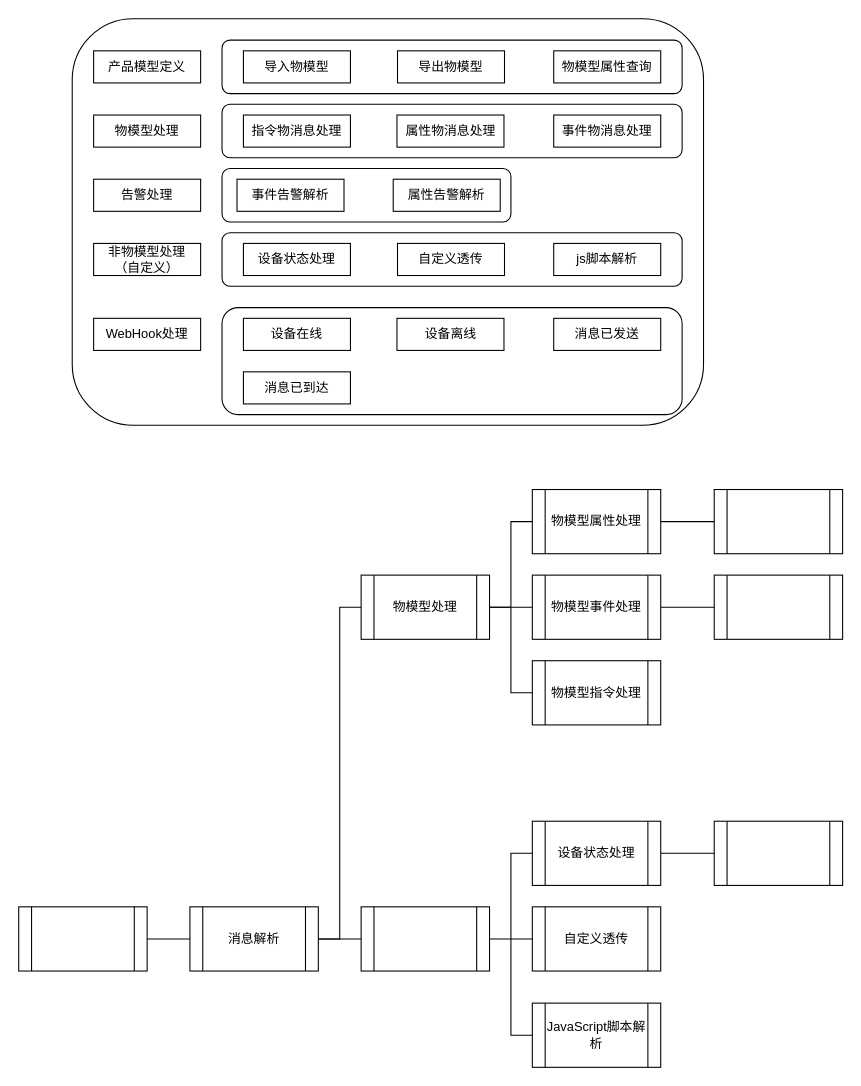
This 861x1086 diagram has some shape labels left out. Each missing label, with the box of its shape:
上行消息: (18, 906, 147, 971)
事件告警处理: (713, 574, 843, 639)
属性告警处理: (713, 488, 843, 554)
设备状态告警处理: (713, 820, 843, 885)
非物模型处理: (360, 906, 490, 971)
